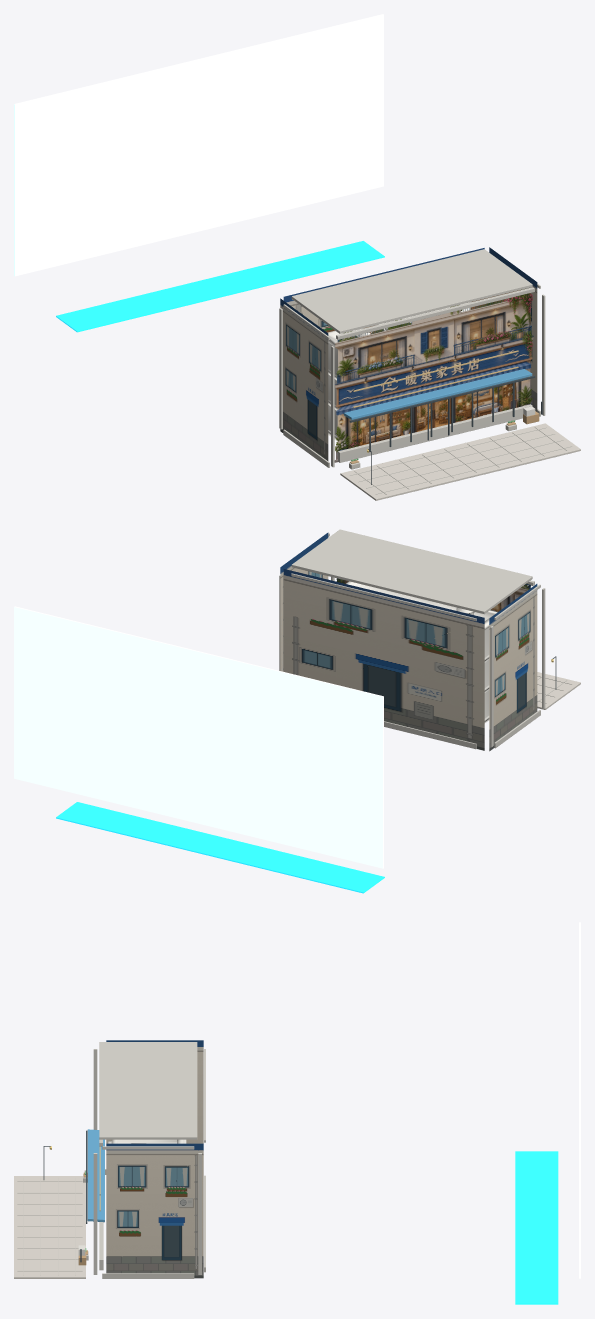
Rendered from StarBay_KenneyFurnitureBuildingK_StickerPrototype_v1.fbx.
3 renders of one model, top to bottom at view 1: azimuth 30°, elevation 25°; view 2: azimuth 150°, elevation 25°; view 3: azimuth 270°, elevation 25°, orthographic.
Parts seen in each view (by area): view 1: sticker_proto_sky_card, sticker_proto_front_facade_texture, sticker_proto_roof_slab, sticker_proto_sidewalk, sticker_proto_sea_strip, sticker_proto_left_side_texture, sticker_proto_front_stone_base_depth, sticker_proto_wide_blue_awning_depth, sticker_proto_front_top_cap, sticker_proto_right_side_texture, furniture_sticker_kenney_building_k_building-k, sticker_proto_back_texture; view 2: sticker_proto_sky_card, sticker_proto_back_texture, sticker_proto_roof_slab, sticker_proto_sea_strip, sticker_proto_left_side_texture, furniture_sticker_kenney_building_k_building-k, sticker_proto_sidewalk, sticker_proto_right_side_texture, sticker_proto_back_roof_lip, sticker_proto_back_bottom_return, sticker_proto_side_front_corner_wrap_-1, sticker_proto_side_back_corner_wrap_-1; view 3: sticker_proto_right_side_texture, sticker_proto_roof_slab, sticker_proto_sidewalk, sticker_proto_sea_strip, sticker_proto_wide_blue_awning_depth, sticker_proto_left_side_texture, sticker_proto_sky_card, sticker_proto_side_front_corner_wrap_1, sticker_proto_side_bottom_return_1.
Part boxes in pixels (box(x1,y1,x2,y2)): sticker_proto_sky_card: box(14, 14, 383, 276); sticker_proto_front_facade_texture: box(334, 289, 533, 462); sticker_proto_roof_slab: box(291, 249, 532, 333); sticker_proto_sidewalk: box(340, 423, 580, 500); sticker_proto_sea_strip: box(56, 241, 384, 332); sticker_proto_left_side_texture: box(280, 298, 328, 460); sticker_proto_front_stone_base_depth: box(338, 404, 532, 462); sticker_proto_wide_blue_awning_depth: box(344, 369, 532, 419); sticker_proto_front_top_cap: box(336, 287, 534, 339); sticker_proto_right_side_texture: box(489, 247, 537, 411); furniture_sticker_kenney_building_k_building-k: box(327, 302, 470, 441); sticker_proto_back_texture: box(283, 248, 484, 332); sticker_proto_sky_card: box(14, 606, 383, 868); sticker_proto_back_texture: box(283, 569, 484, 750); sticker_proto_roof_slab: box(291, 529, 532, 614); sticker_proto_sea_strip: box(56, 802, 384, 893); sticker_proto_left_side_texture: box(489, 584, 537, 751); furniture_sticker_kenney_building_k_building-k: box(346, 581, 497, 723); sticker_proto_sidewalk: box(537, 672, 580, 709); sticker_proto_right_side_texture: box(280, 532, 328, 671); sticker_proto_back_roof_lip: box(291, 573, 476, 621); sticker_proto_back_bottom_return: box(384, 721, 476, 749); sticker_proto_side_front_corner_wrap_-1: box(542, 588, 545, 709); sticker_proto_side_back_corner_wrap_-1: box(490, 626, 493, 747); sticker_proto_right_side_texture: box(106, 1143, 203, 1278); sticker_proto_roof_slab: box(99, 1042, 197, 1139); sticker_proto_sidewalk: box(14, 1176, 85, 1278); sticker_proto_sea_strip: box(515, 1151, 558, 1304); sticker_proto_wide_blue_awning_depth: box(87, 1129, 104, 1222); sticker_proto_left_side_texture: box(106, 1040, 203, 1143); sticker_proto_sky_card: box(579, 922, 580, 1278); sticker_proto_side_front_corner_wrap_1: box(93, 1153, 97, 1274); sticker_proto_side_bottom_return_1: box(102, 1273, 194, 1278).
Bounding box in the file's own units: 1800 × 989 × 2364.
Materials: 19 (4 with a texture image).
